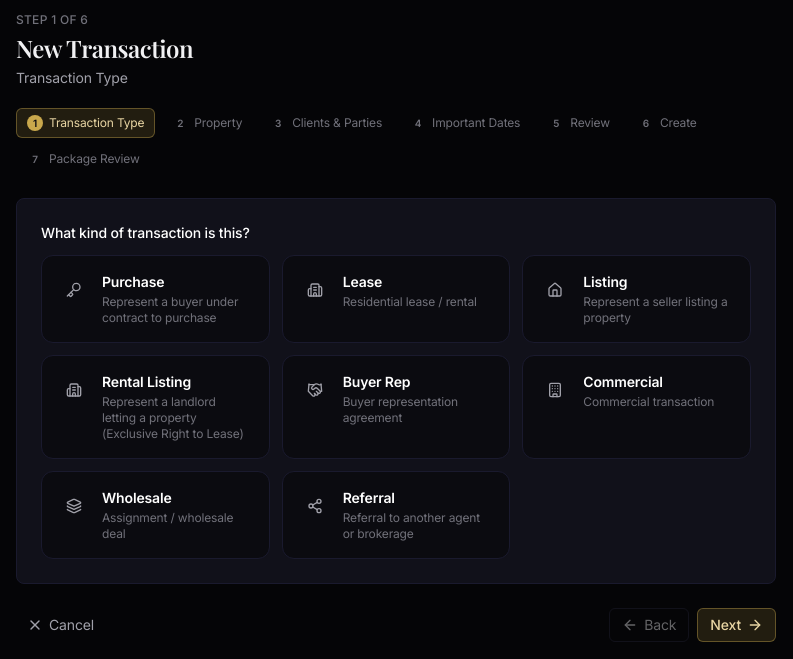
WizardShell — validation gate (real rules) › blocks Next on property when the address is empty
Expected: the element with test id "wizard-step-type" is shown, [41,223,751,559]
Click the radio button labelled "Purchase Represent a buyer under contract to purchase".
click(155, 299)  # box [41,255,270,343]
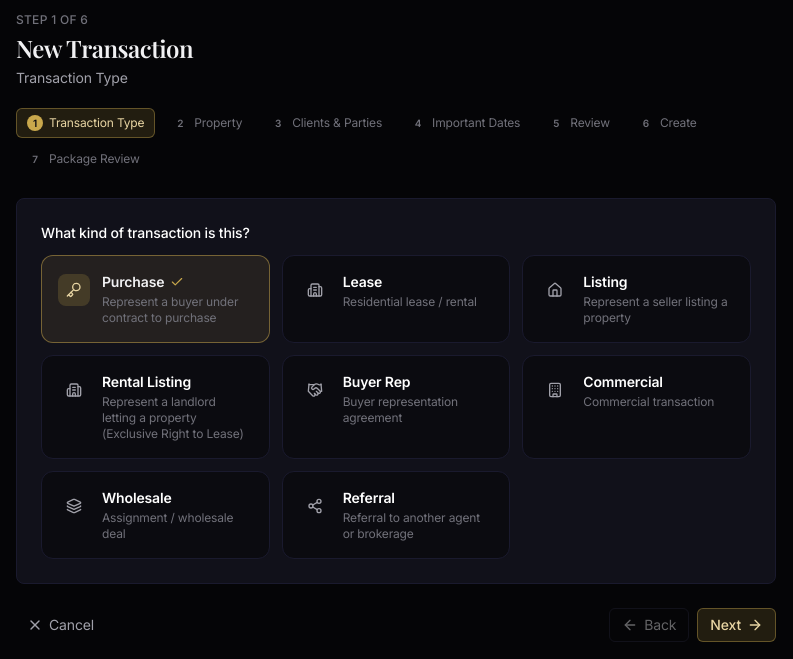
Click the button "Next".
click(737, 625)  # box [697,608,776,642]
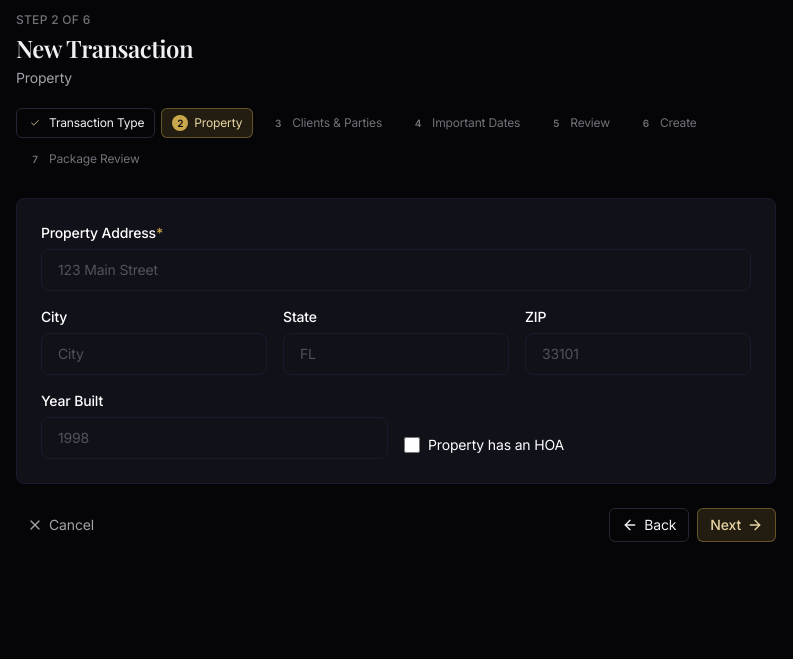
Result: the element with test id "wizard-step-property" is shown at [41,223,751,459]
Click the button "Next".
click(737, 525)  # box [697,508,776,542]
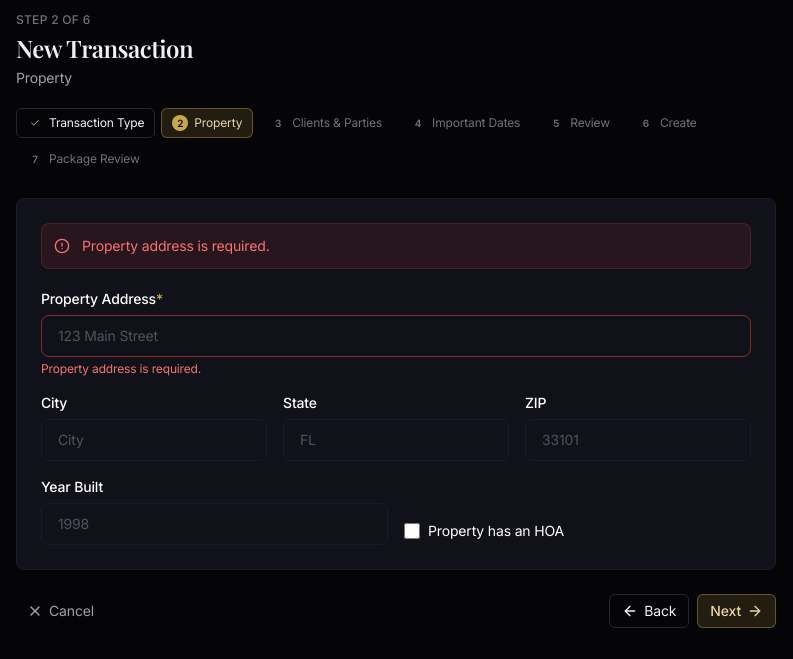
Result: the element with test id "wizard-step-property" is shown at [41,289,751,545]
Result: the list item "Property address is required." is shown at [82,236,270,256]
